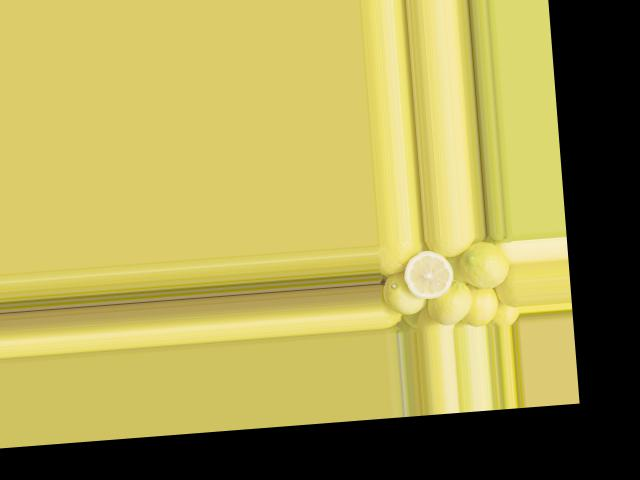lemon: (384, 274, 422, 315)
